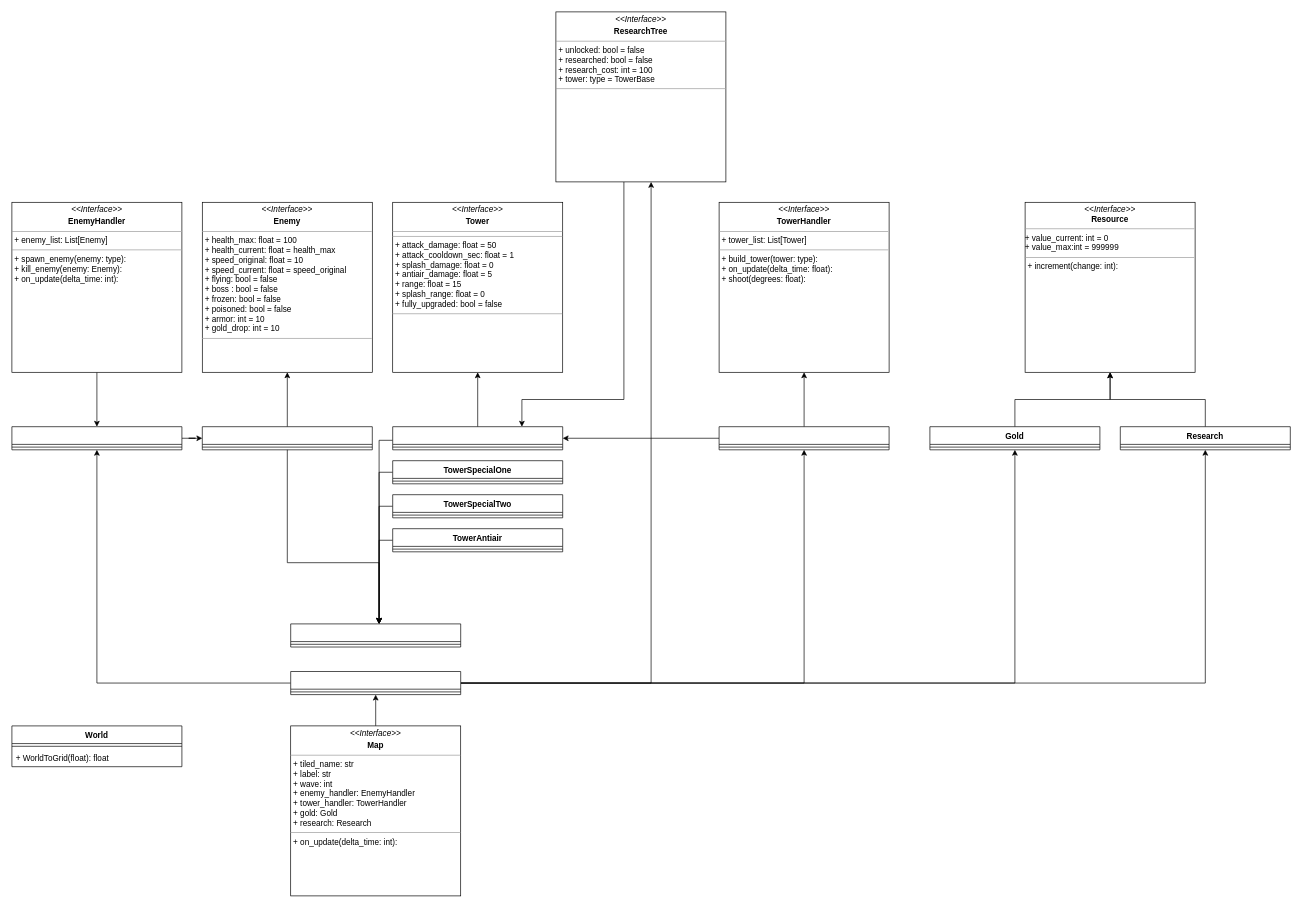
The diagram is 1302 pixels wide and 908 high, and some of its shapes have lost their labels. The box of each missing label's shape, as (x1, y1, x2, y2) in pixels:
arcade.Sprite: (290, 623, 461, 647)
Enemy: (202, 426, 372, 450)
EnemyHandler: (11, 426, 182, 450)
Map: (290, 671, 461, 695)
TowerBase: (392, 426, 563, 450)
TowerHandler: (718, 426, 889, 450)
